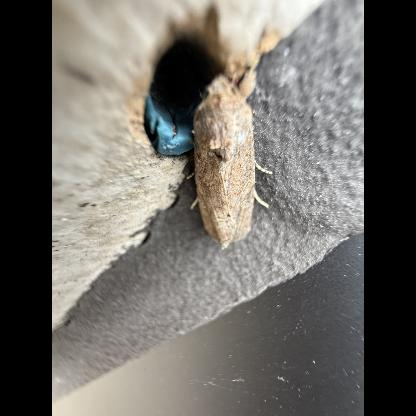Fall Armyworm Moth: (183, 71, 277, 253)
